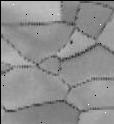good_void: (70, 39, 72, 43)
